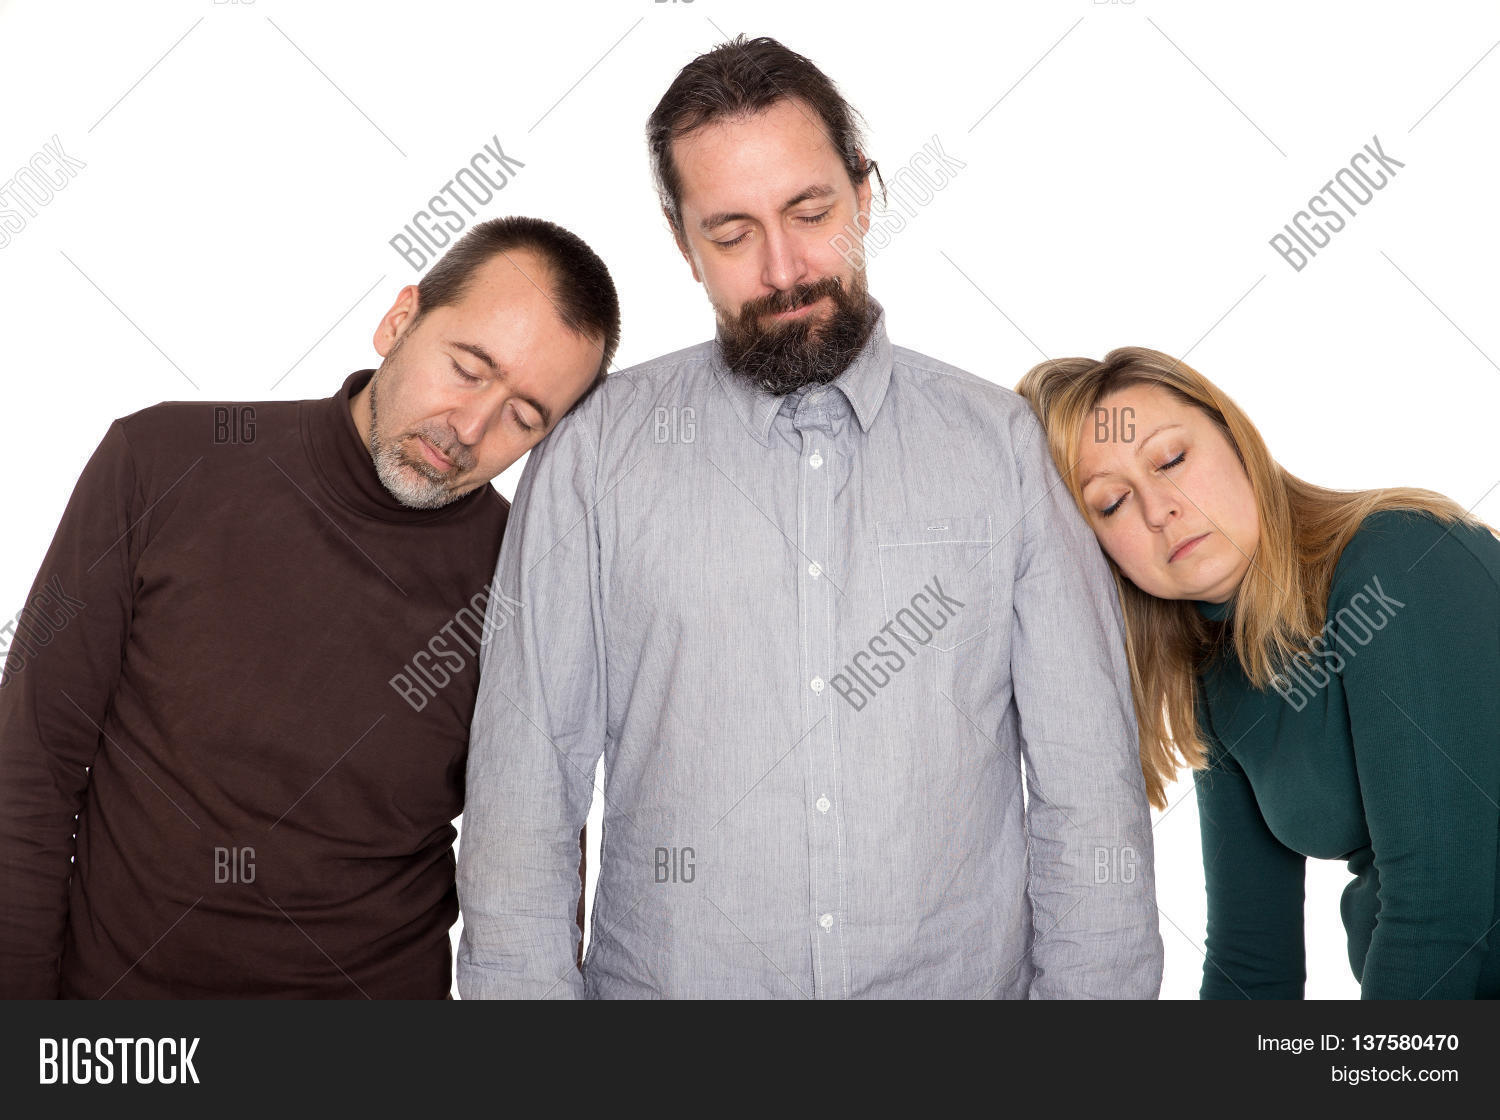no_mask: (635, 22, 881, 409), (1019, 327, 1313, 635), (345, 209, 624, 519)
